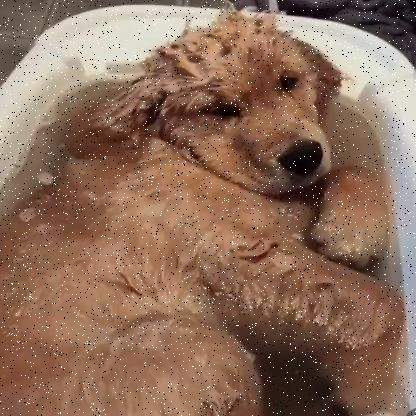dog: (62, 3, 386, 363)
